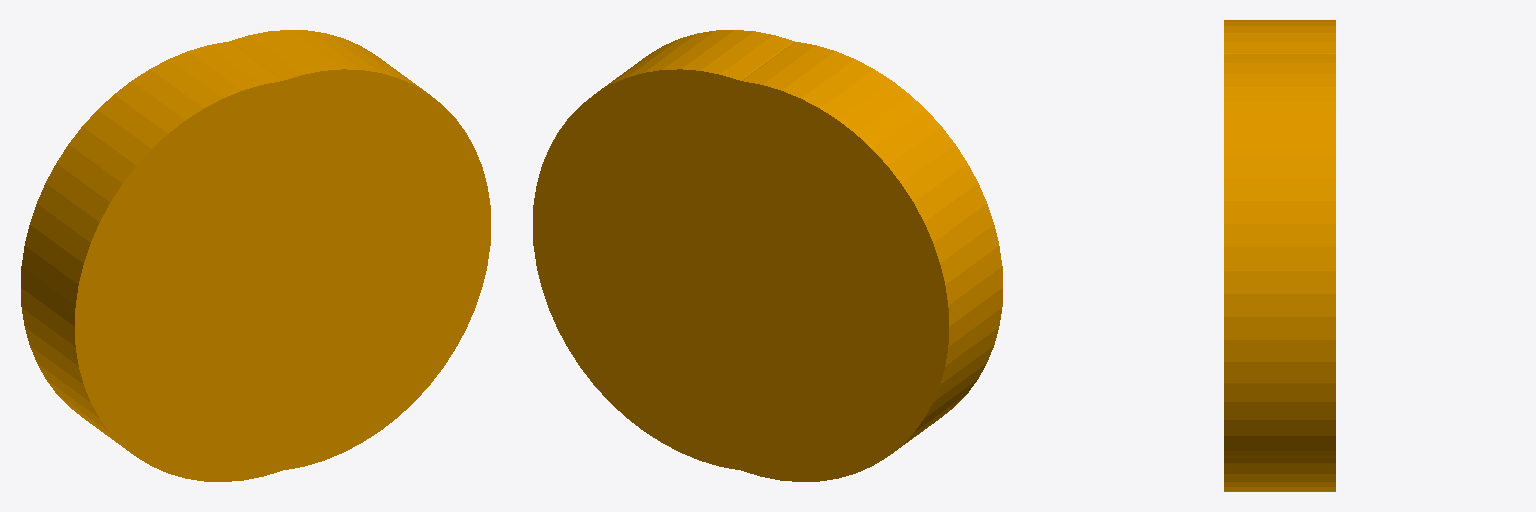
robot.urdf — nightvapor:
<?xml version="1.0"?>
<robot name="nightvapor" xmlns:xacro="http://ros.org/wiki/xacro">

  <material name="black">
    <color rgba="0.01 0.01 0.01 1"/>
  </material>

  <material name="white">
    <color rgba="1 1 1 1"/>
  </material>
 
  <link name="base_link">
    <origin xyz="0.0 0 0.0" rpy="0 0 0"/>
    <visual>
      <origin xyz="0.002 0 0.031" rpy="0 0 -1.5707"/>
      <geometry>
        <mesh filename="package://nightvapor_description/meshes/nightvapor.dae" scale="1 1 1" />
      </geometry>
    </visual>
    <visual>
      <origin xyz="0.112 -0.10 0.036" rpy="0 0 0"/>
      <geometry>
        <mesh filename="package://nightvapor_description/meshes/wheel.dae" scale="1 1 1" />
      </geometry>
    </visual>
    <visual>
      <origin xyz="0.112 0.10 0.036" rpy="0 0 3.14159"/>
      <geometry>
        <mesh filename="package://nightvapor_description/meshes/wheel.dae" scale="1 1 1" />
      </geometry>
    </visual>
    <visual>
      <origin xyz="-0.1135 -0.10 0.036" rpy="0 0 0"/>
      <geometry>
        <mesh filename="package://nightvapor_description/meshes/wheel.dae" scale="1 1 1" />
      </geometry>
    </visual>
    <visual>
      <origin xyz="-0.1135 0.10 0.036" rpy="0 0 3.14159"/>
      <geometry>
        <mesh filename="package://nightvapor_description/meshes/wheel.dae" scale="1 1 1" />
      </geometry>
    </visual>
  </link>

  <link name="base_footprint"/>
  <link name="camera_link_optical"/>

  <link name="lidar_link">
    <visual>
      <origin xyz="0 0 -.017" rpy="0 0 0"/>
      <geometry>
        <box size="0.039 0.039 0.022"/>
      </geometry>
      <material name="black"/>
    </visual>
    <visual>
      <origin xyz="0 0 0" rpy="0 0 0"/>
      <geometry>
        <cylinder length="0.014" radius="0.018"/>
      </geometry>
      <material name="black"/>
    </visual>
  </link>

  <link name="camera_link">
    <visual>
      <origin xyz=".013 0 0" rpy="0 0 0"/>
      <geometry>
        <box size=".008 .028 .028"/>
      </geometry>
      <material name="white"/>
    </visual>
    <visual>
      <origin xyz=".008 0 0" rpy="0 0 0"/>
      <geometry>
        <box size=".008 .014 .01"/>
      </geometry>
      <material name="white"/>
    </visual>
    <visual>
      <origin xyz=".016 0 .006" rpy="0 1.57079632679 0"/>
      <geometry>
        <cylinder length="0.003" radius="0.004"/>
      </geometry>
      <material name="black"/>
    </visual>
  </link>

  <joint name="base_joint" type="fixed">
    <parent link="base_link"/>
    <child link="base_footprint"/>
    <origin xyz="0.0 0.0 0.0" rpy="0 0 0"/>
  </joint>

  <joint name="lidar_joint" type="fixed">
    <origin xyz="0 0 0.191" rpy="0 0 0"/>
    <parent link="base_link"/>
    <child link="lidar_link"/>
  </joint>

  <joint name="camera_joint" type="fixed">
    <origin xyz=".173 0 .145" rpy="0 0 0"/>
    <parent link="base_link"/>
    <child link="camera_link"/>
  </joint>

  <joint name="camera_optical_joint" type="fixed">
    <origin xyz=".016 0 .006" rpy="-1.57079632679 0 -1.57079632679"/>
    <parent link="camera_link"/>
    <child link="camera_link_optical"/>
  </joint>

</robot>

--- What the picture shows (computed from the rendered views, not written in the file) ---
Views: 3 orthographic renders of the robot side by side, from view 1: azimuth 30°, elevation 25°; view 2: azimuth 150°, elevation 25°; view 3: azimuth 270°, elevation 25°.
Model nightvapor with 5 links and 4 joints (4 fixed), rooted at base_link, posed all joints at 0.
Links seen in each view (by area): view 1: base_link; view 2: base_link; view 3: base_link.
Link boxes in pixels (x1,y1,x2,y2): base_link: [21, 30, 490, 481]; base_link: [533, 30, 1002, 481]; base_link: [1224, 20, 1335, 491].
Bounding box of the posed robot: 2.23 × 0.5 × 2 m (x, y, z).
5 mesh visuals loaded from 2 distinct referenced files (2 Collada DAE).
